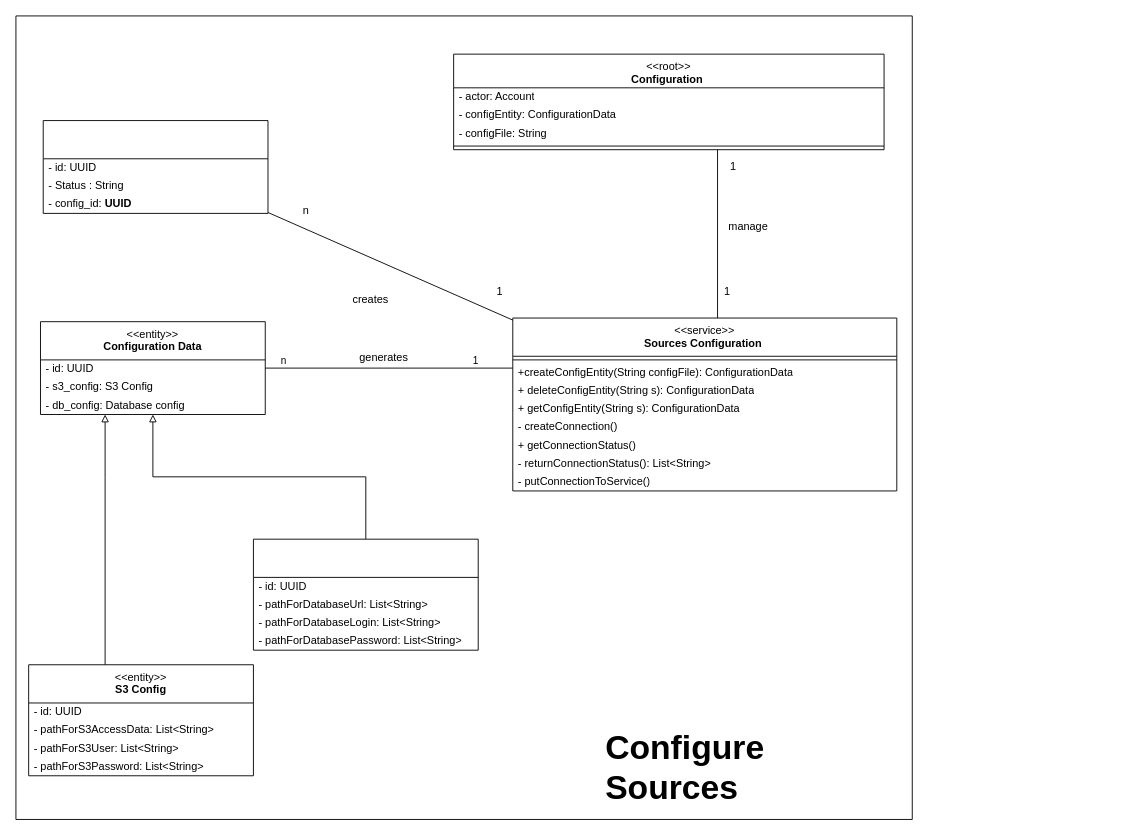
This 1137x835 diagram has some shape labels left out. The box of each missing label's shape, as (x1, y1, x2, y2) in pixels:
<<entity>> Connection Status: (42, 120, 268, 213)
<<entity>> Database Config: (253, 538, 478, 650)
